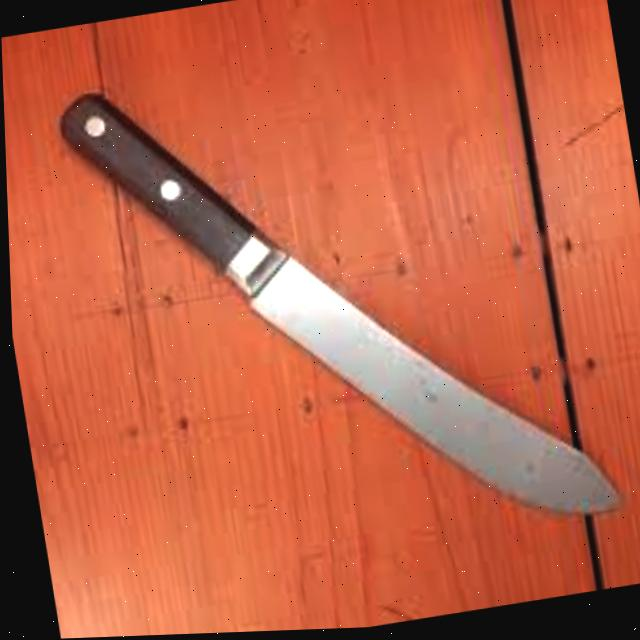Knife: (51, 20, 619, 592)
